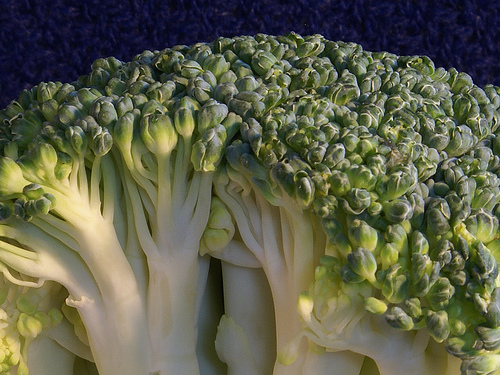broccoli: (1, 33, 499, 374)
